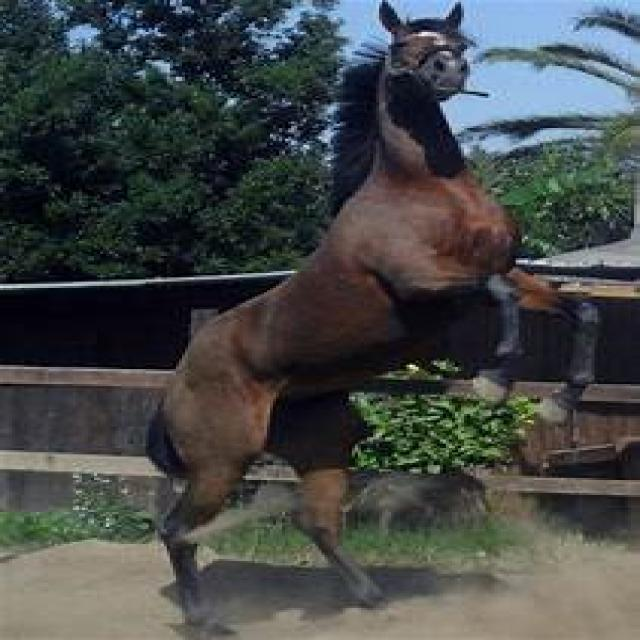animal: (142, 0, 600, 631)
